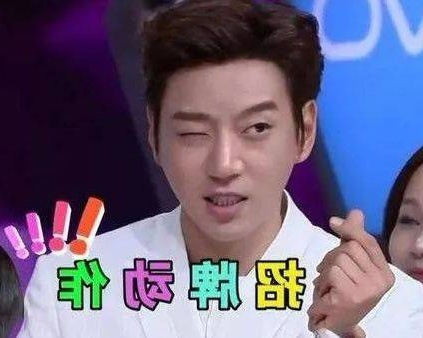oneheart: (295, 207, 405, 317)
